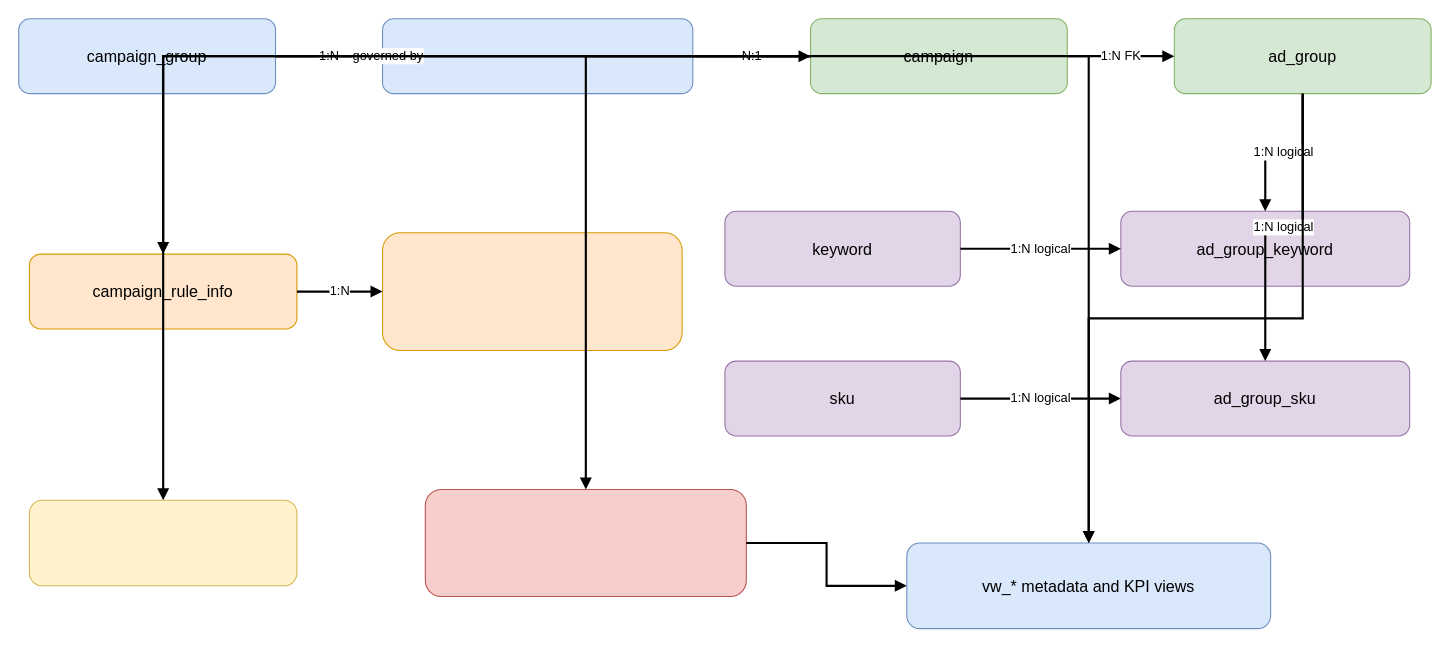
This 1450x647 diagram has some shape labels left out. The shapes that lost their labels are listed below. From the top down, each one's centre as x and y in pixels, then its label:
At (x=537, y=56): "campaign_group_relationship".
At (x=531, y=291): "statements · actions · frequency dates · recommendations · history".
At (x=162, y=542): "audit · snapshots · changes".
At (x=585, y=542): "traffic · conversion · spend profit · daily item spots".
